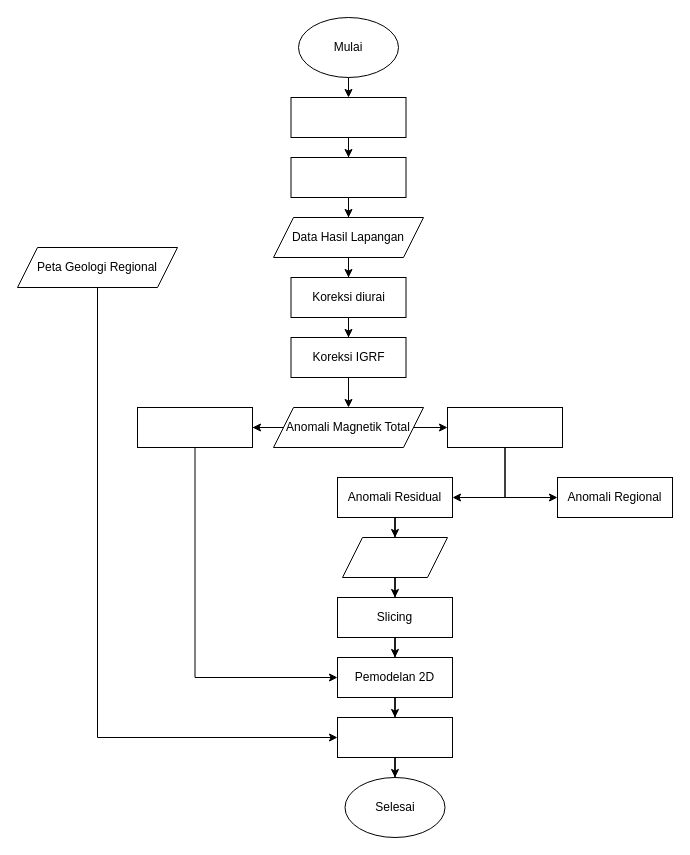
Some shapes in this 690 by 855 pixel diagram are drawn without their labels. Here are the shapes that lost their labels. From the top down, the box of each, then its label:
(290, 96, 406, 138): Penentuan Titik
(290, 156, 406, 198): Pengambilan Data Lapangan
(136, 406, 252, 448): Grafik RAPS
(446, 406, 562, 448): Pemisahan Anomali Magnetik
(342, 536, 448, 578): RTP
(336, 716, 452, 758): Interpretasi
